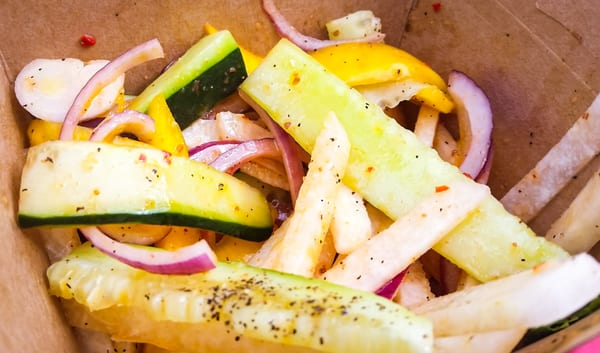pasta: (18, 140, 276, 237), (77, 221, 219, 276)
